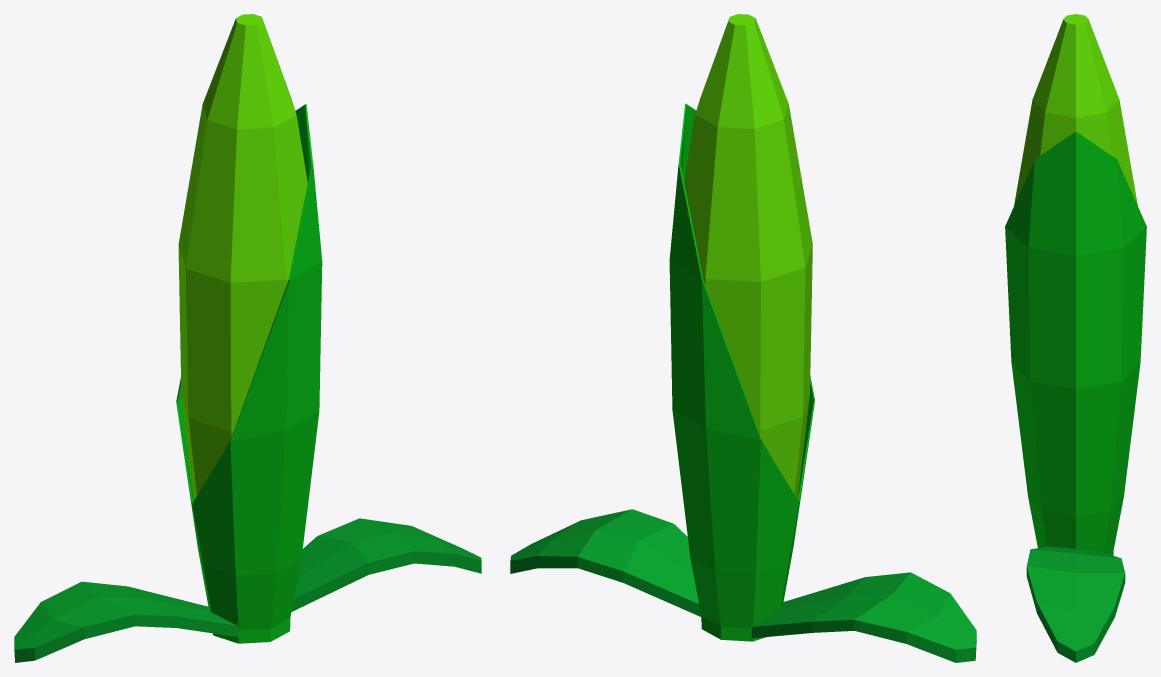
The model's file is Baby_Cabbage.fbx.
The picture shows the model from 3 angles, left to right: view 1: azimuth 30°, elevation 25°; view 2: azimuth 150°, elevation 25°; view 3: azimuth 270°, elevation 25°; orthographic projection. The views are drawn at different scales.
Visible parts, largest first — view 1: Cylinder.008; view 2: Cylinder.008; view 3: Cylinder.008.
Part boxes in pixels (bbox=[...]): Cylinder.008: bbox=[14, 14, 481, 662]; Cylinder.008: bbox=[510, 14, 976, 662]; Cylinder.008: bbox=[1005, 14, 1146, 662].
Bounding box in the file's own units: 162 × 202 × 47.85.
